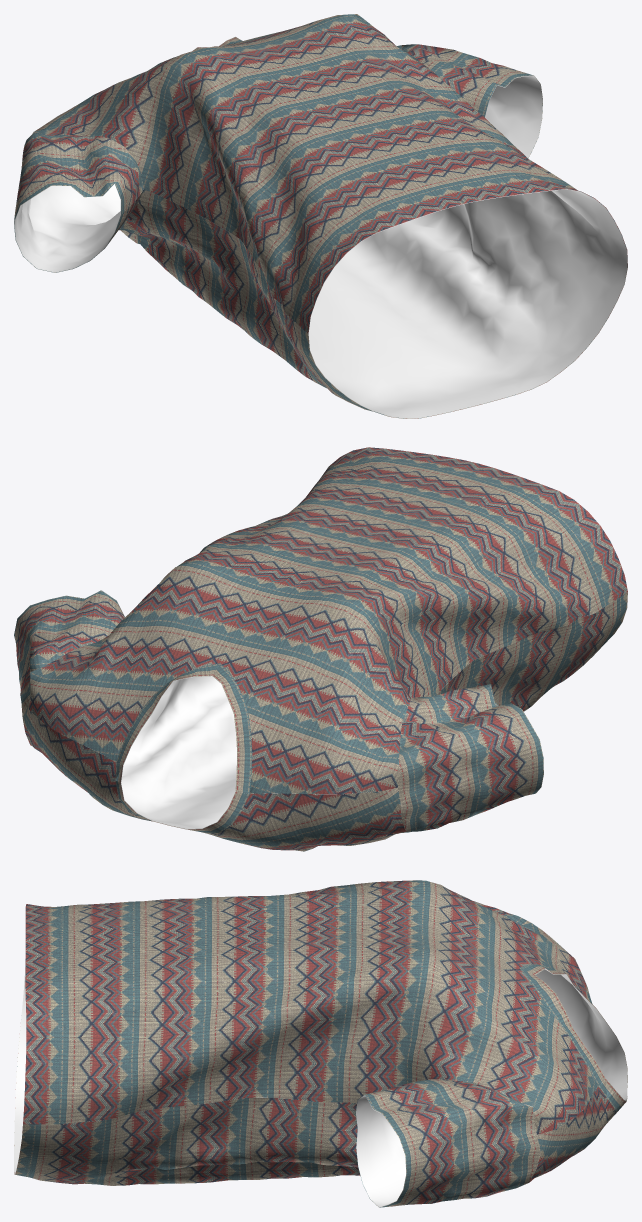
File: female_avg.glb
The picture shows the model from 3 angles, top to bottom: view 1: azimuth 30°, elevation 25°; view 2: azimuth 150°, elevation 25°; view 3: azimuth 270°, elevation 25°; orthographic projection.
Visible parts, largest first — view 1: female_avg; view 2: female_avg; view 3: female_avg.
Part boxes in pixels (bbox=[...]): female_avg: bbox=[14, 14, 627, 418]; female_avg: bbox=[14, 447, 627, 851]; female_avg: bbox=[14, 880, 627, 1207].
Size of the model in its own units: 0.6233 by 0.2617 by 0.6222.
Materials: 2 (1 with a texture image).
